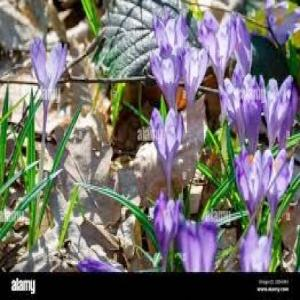Saffron: (232, 150, 270, 216), (32, 39, 66, 107), (204, 13, 238, 78), (152, 110, 182, 173), (151, 48, 183, 105), (150, 197, 178, 248), (183, 50, 207, 102)
